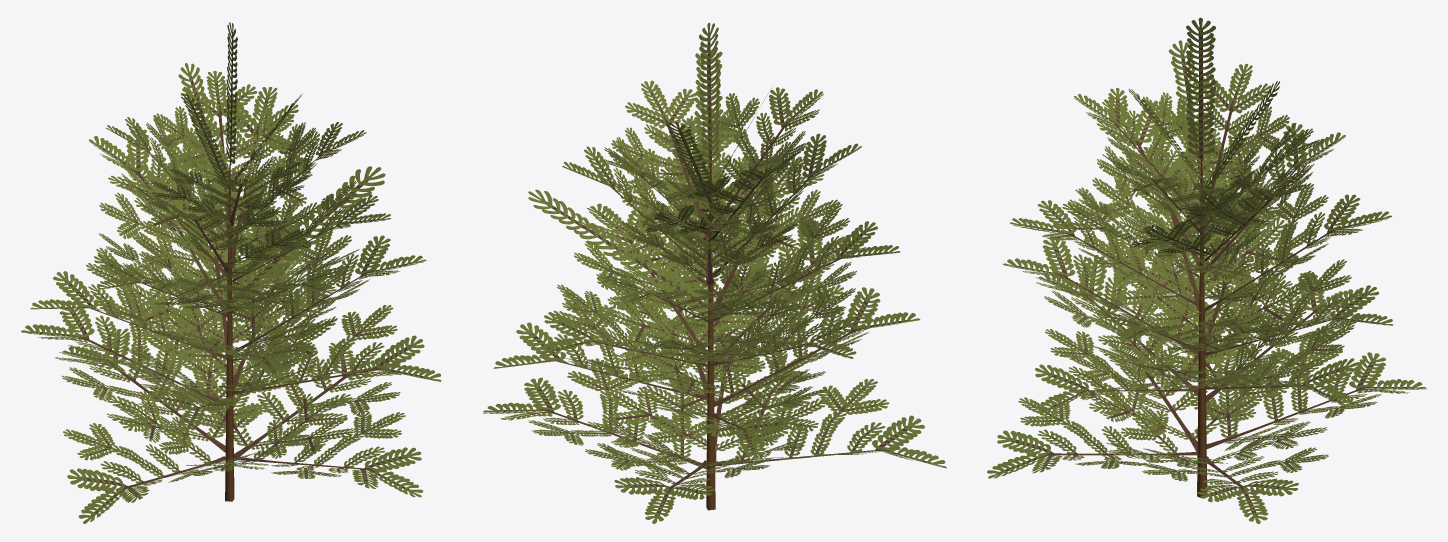
Rendered from Young_Fir_Tree_3.fbx.
3 views of the same model, side by side, from view 1: azimuth 30°, elevation 25°; view 2: azimuth 150°, elevation 25°; view 3: azimuth 270°, elevation 25° (orthographic).
Parts seen in each view (by area): view 1: Young_Fir_Tree_3; view 2: Young_Fir_Tree_3; view 3: Young_Fir_Tree_3.
Boxes of the visible parts, x1,y1,x2,y2 form: Young_Fir_Tree_3: [21, 22, 441, 523]; Young_Fir_Tree_3: [483, 22, 946, 523]; Young_Fir_Tree_3: [987, 17, 1426, 523].
Size of the model in its own units: 123 by 142 by 120.
Materials: 2 (2 with a texture image).
